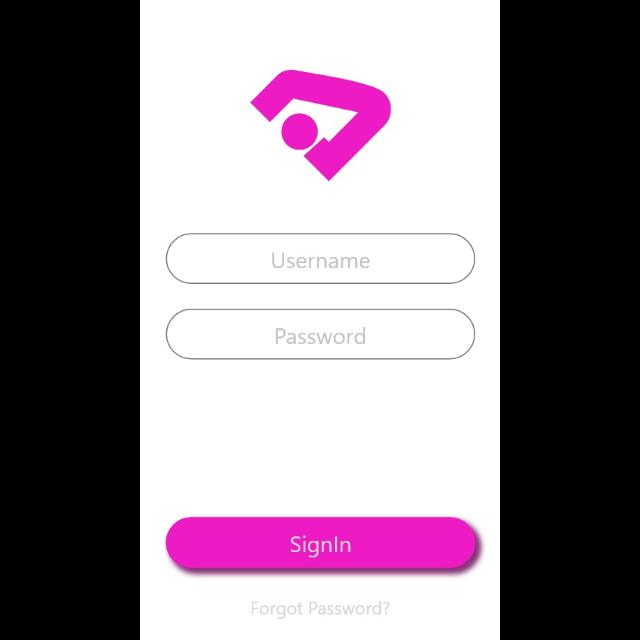image: (250, 70, 392, 182)
input: (166, 233, 476, 284), (166, 310, 476, 360)
text: (253, 601, 391, 619), (276, 327, 366, 345), (274, 254, 371, 268)
textbutton: (166, 518, 476, 568)
